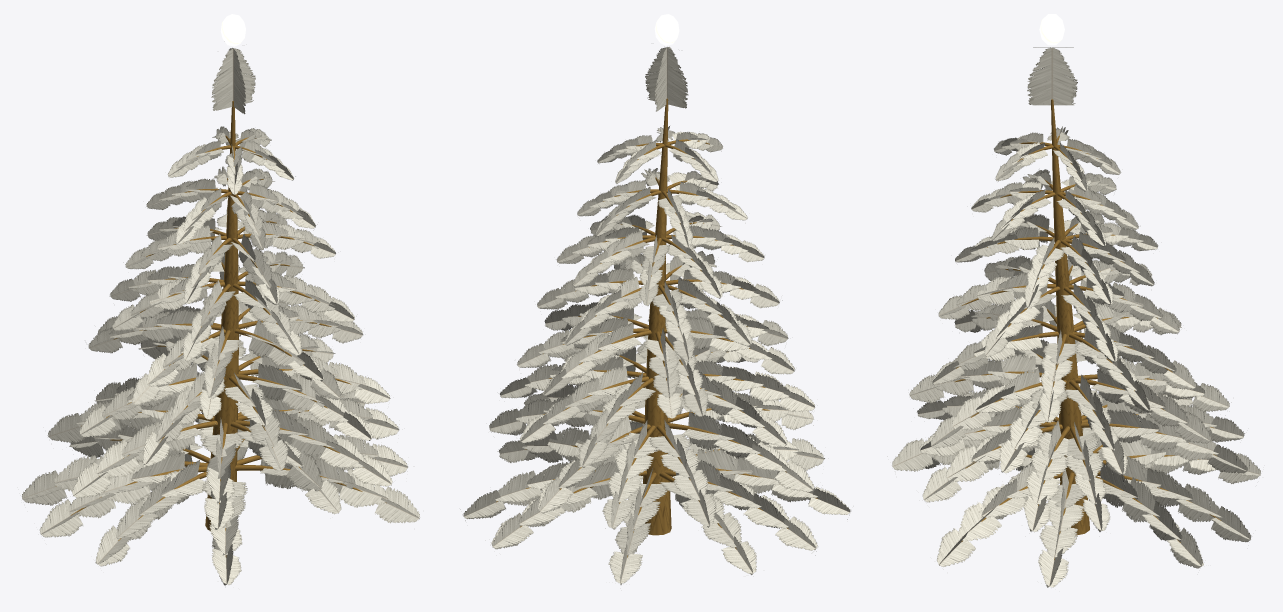
The model's file is tree_conifer.glb.
3 renders of one model, left to right at view 1: azimuth 30°, elevation 25°; view 2: azimuth 150°, elevation 25°; view 3: azimuth 270°, elevation 25°, orthographic. The views are drawn at different scales.
Visible parts, largest first — view 1: foliage, conifer, hoju; view 2: foliage, conifer, hoju; view 3: foliage, conifer, hoju.
Part boxes in pixels (x1,y1,x2,y2): foliage: [22, 48, 419, 585]; conifer: [56, 101, 386, 557]; hoju: [220, 14, 245, 46]; foliage: [460, 47, 850, 584]; conifer: [496, 98, 817, 557]; hoju: [654, 14, 679, 45]; foliage: [887, 47, 1260, 587]; conifer: [954, 99, 1221, 559]; hoju: [1039, 14, 1064, 45].
Size of the model in its own units: 6.41 by 8.87 by 5.99.
Materials: 3 (2 with a texture image).
